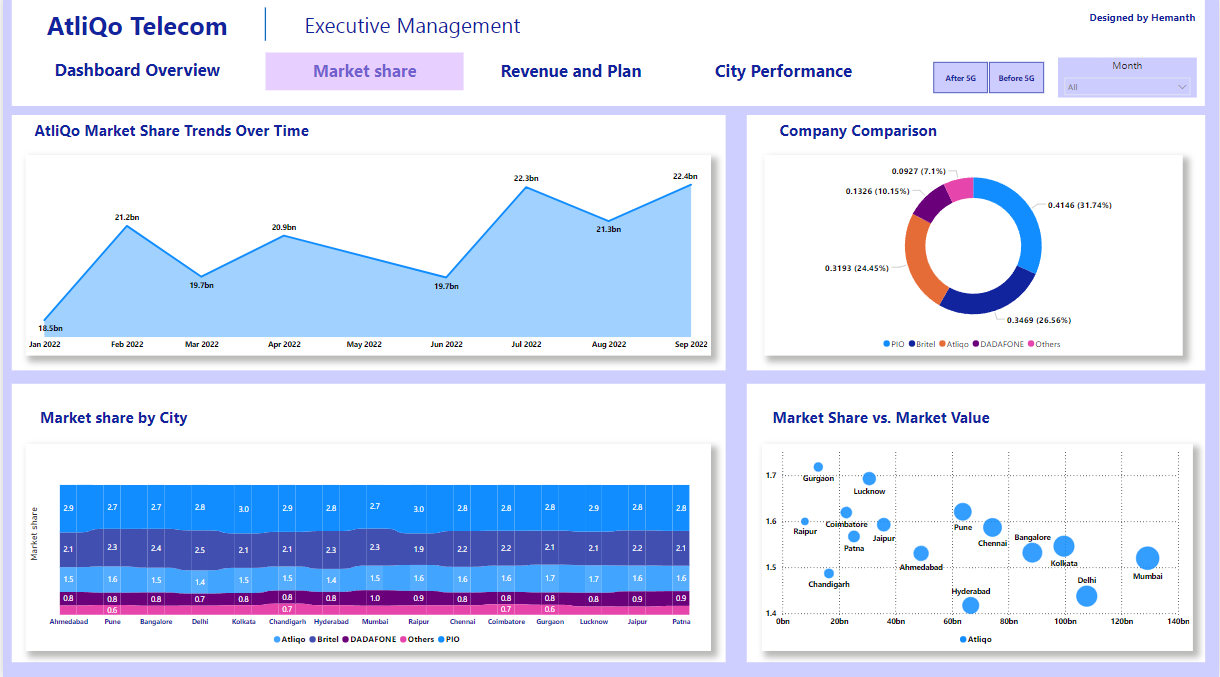

The page's visual inventory and layout, read from the dashboard file:
{"tool":"powerbi","page":{"name":"Market share analysis","canvas":[1920,1080],"ordinal":1},"visuals":[{"type":"shape","box":[1174.5,190,723.9,403.6],"z":0},{"type":"shape","box":[14.5,190,1127.4,403.6],"z":1000},{"type":"shape","box":[36.2,190,461.5,47.1],"z":2000},{"type":"shape","box":[14.5,613.5,1127.4,439.7],"z":3000},{"type":"ribbonChart","fields":{"Category":["dim_cities.city_name"],"Y":["Sum(fact_market_share.ms_pct)"],"Series":["fact_market_share.company"]},"box":[36.2,709.4,1082.2,327.5],"z":4000},{"type":"shape","box":[36.2,640.6,278.7,48.9],"z":5000},{"type":"donutChart","fields":{"Category":["fact_market_share.company"],"Y":["Max(fact_market_share.ms_pct)"]},"box":[1201.6,253.4,660.5,316.7],"z":6000},{"type":"shape","box":[1201.6,190,296.8,47.1],"z":7000},{"type":"areaChart","fields":{"Category":["dim_date.date"],"Y":["All Measures.Atliqo ms"]},"box":[36.2,253.4,1082.2,316.7],"z":8000},{"type":"shape","box":[1174.5,613.5,723.9,439.7],"z":9000},{"type":"shape","box":[1201.6,640.6,369.2,48.9],"z":10000},{"type":"scatterChart","fields":{"X":["All Measures.TotalMarketValue"],"Y":["All Measures.AtliQoMarketSharePercent"],"Category":["dim_cities.city_name"],"Size":["All Measures.AtliQoMarketShareValue"],"Series":["fact_atliq_metrics.company"]},"box":[1198,709.4,680.4,327.5],"z":11000},{"type":"shape","box":[14.5,0,1883.9,175.5],"z":12000},{"type":"shape","box":[47.1,19.9,329.4,52.5],"z":13000},{"type":"shape","box":[437.9,19.9,416.2,52.5],"z":14000},{"type":"shape","box":[390.9,19.9,47.1,52.5],"z":15000},{"type":"shape","box":[47.1,88.7,329.4,56.1],"z":16000},{"type":"shape","box":[414.4,90.5,313.1,54.3],"z":17000},{"type":"shape","box":[751,90.5,289.5,54.3],"z":18000},{"type":"shape","box":[1076.7,90.5,309.5,54.3],"z":19000},{"type":"slicer","fields":{"Values":["dim_date.before/after_5g"]},"box":[1442.3,99.5,224.4,63.3],"z":20000},{"type":"shape","box":[1699.3,19.9,199.1,29],"z":21000},{"type":"slicer","title":"Month","fields":{"Values":["dim_date.month_name"]},"box":[1666.7,99.5,219,63.3],"z":22000},{"type":"shape","box":[414.4,90.5,313.1,59.7],"z":23000}]}

Visuals, with their boxes in screenshot pixels (x1, y1, x2, y2), scaled from the page's 1920x1080 canvas onto the 1220x677 screenshot:
shape: x1=746, y1=119, x2=1206, y2=372
shape: x1=9, y1=119, x2=726, y2=372
shape: x1=23, y1=119, x2=316, y2=149
shape: x1=9, y1=385, x2=726, y2=660
ribbonChart - dim_cities.city_name x Sum(fact_market_share.ms_pct): x1=23, y1=445, x2=711, y2=650
shape: x1=23, y1=402, x2=200, y2=432
donutChart - fact_market_share.company x Max(fact_market_share.ms_pct): x1=764, y1=159, x2=1183, y2=357
shape: x1=764, y1=119, x2=952, y2=149
areaChart - dim_date.date x All Measures.Atliqo ms: x1=23, y1=159, x2=711, y2=357
shape: x1=746, y1=385, x2=1206, y2=660
shape: x1=764, y1=402, x2=998, y2=432
scatterChart - All Measures.TotalMarketValue x All Measures.AtliQoMarketSharePercent: x1=761, y1=445, x2=1194, y2=650
shape: x1=9, y1=0, x2=1206, y2=110
shape: x1=30, y1=12, x2=239, y2=45
shape: x1=278, y1=12, x2=543, y2=45
shape: x1=248, y1=12, x2=278, y2=45
shape: x1=30, y1=56, x2=239, y2=91
shape: x1=263, y1=57, x2=462, y2=91
shape: x1=477, y1=57, x2=661, y2=91
shape: x1=684, y1=57, x2=881, y2=91
slicer - dim_date.before/after_5g: x1=916, y1=62, x2=1059, y2=102
shape: x1=1080, y1=12, x2=1206, y2=31
"Month" slicer: x1=1059, y1=62, x2=1198, y2=102
shape: x1=263, y1=57, x2=462, y2=94
